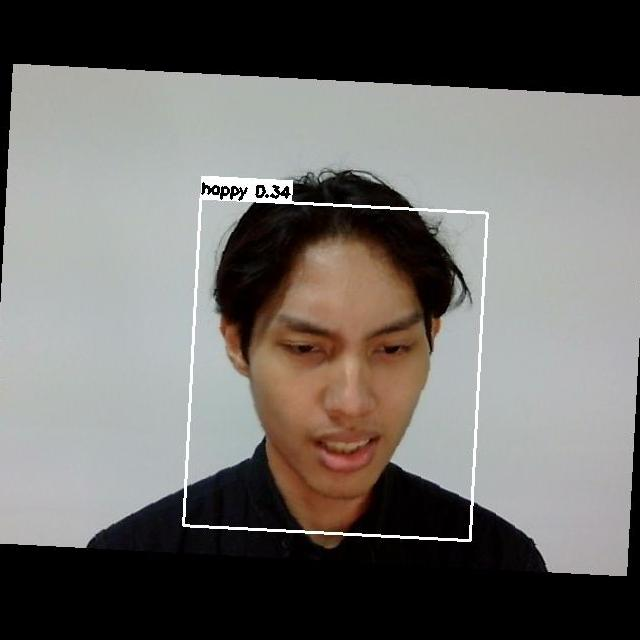Fear: (249, 285, 425, 476)
